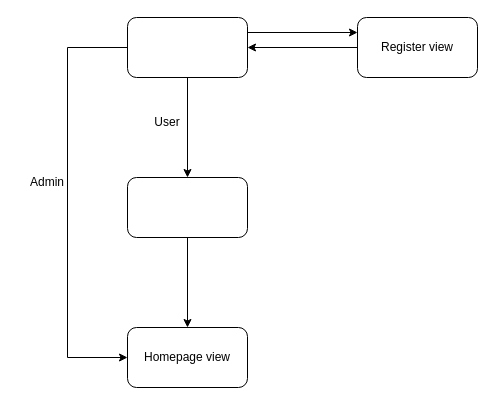
The diagram is 495 pixels wide and 405 high, and some of its shapes have lost their labels. The shapes that lost their labels are listed below. From the top down, each one's centre as x and y in pixels, then its label:
At (x=187, y=47): "Login view".
At (x=187, y=207): "Profile Selection View".
